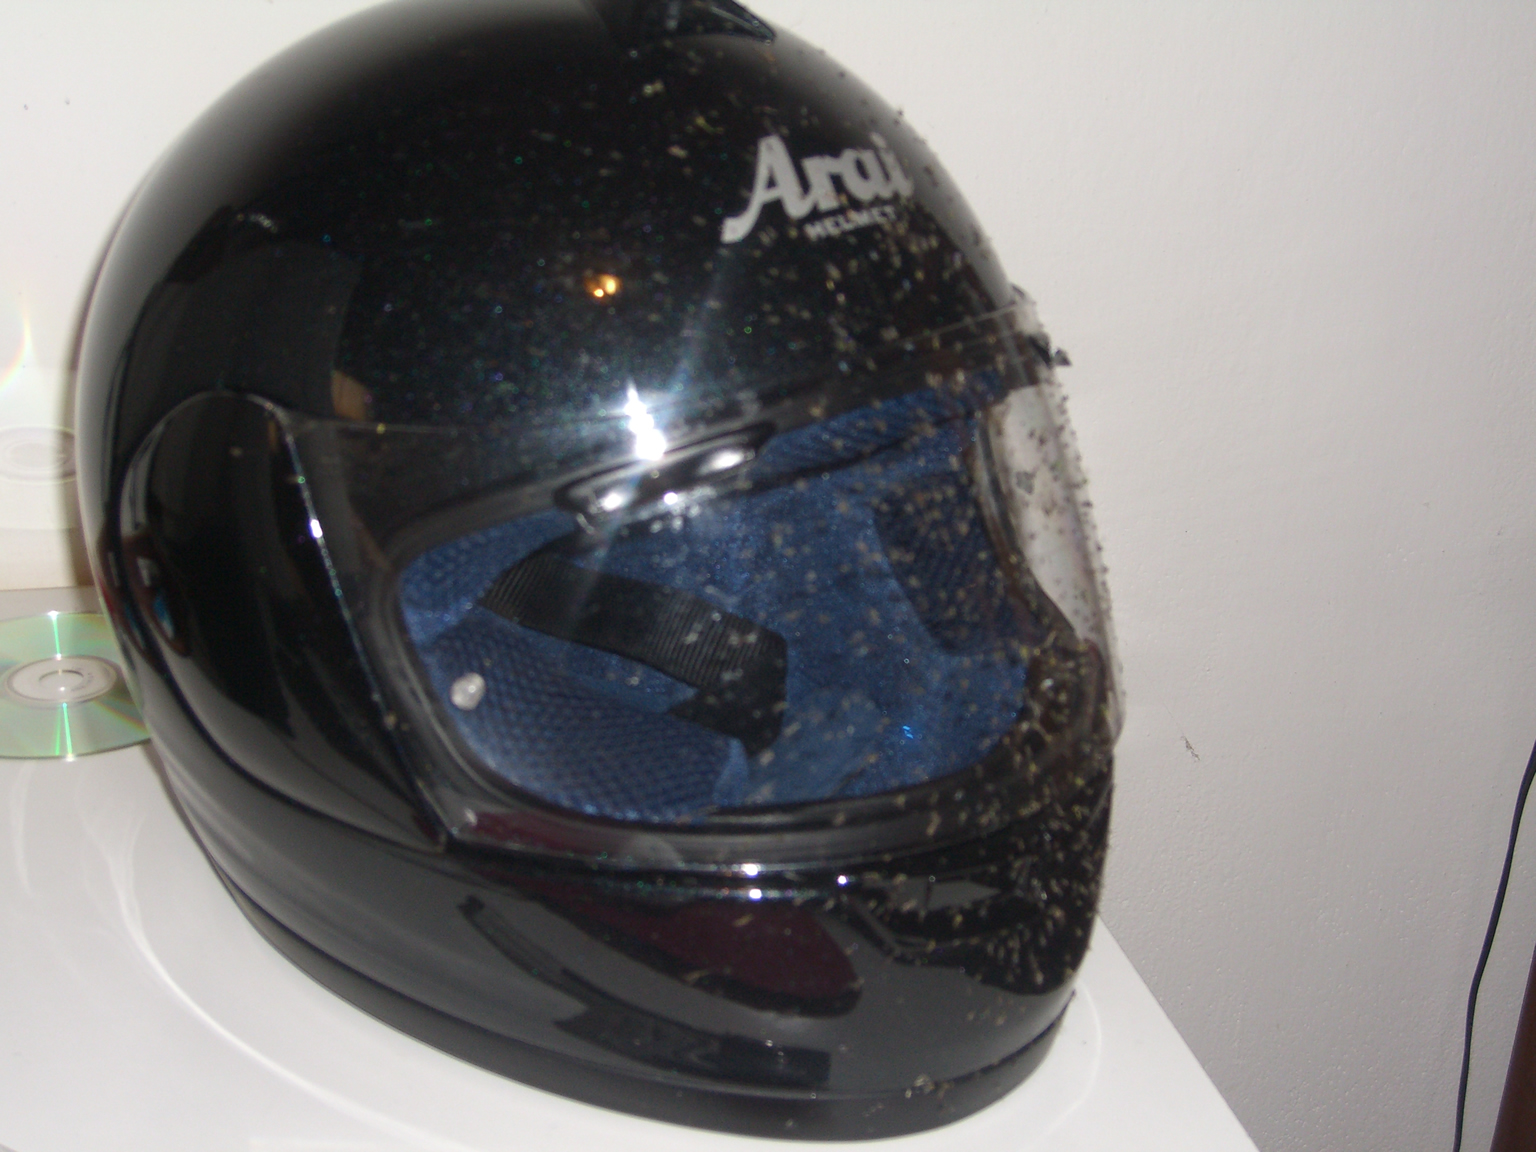helmet: (37, 52, 1162, 1081)
